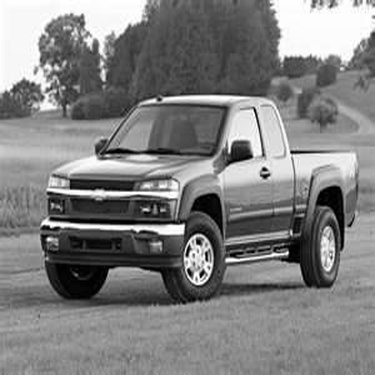car: (1, 84, 373, 313)
